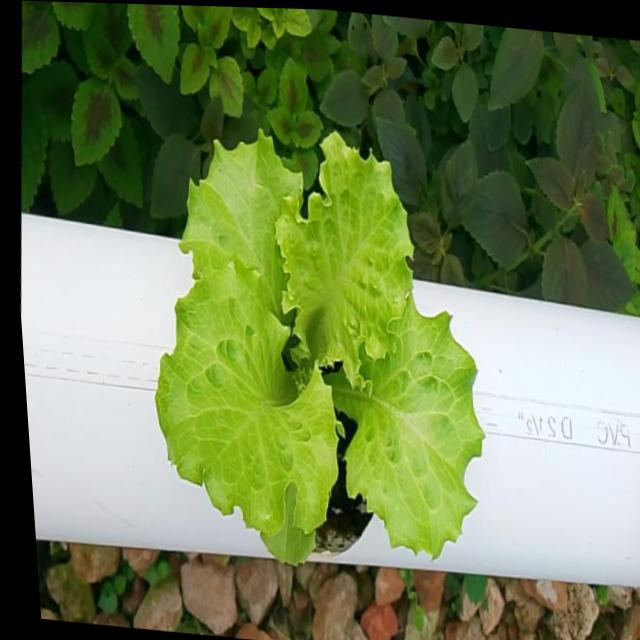Baby: (156, 120, 482, 552)
